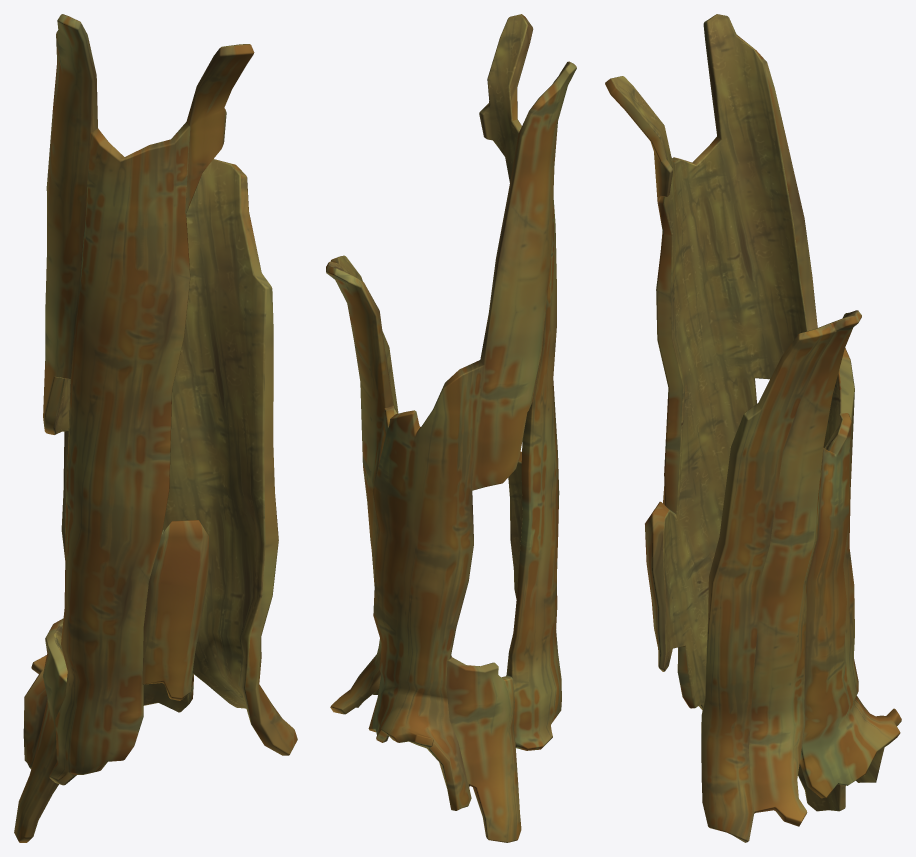
File: env_forest_gianttree_hollowtrunk_lod0.fbx
3 renders of one model, left to right at view 1: azimuth 30°, elevation 25°; view 2: azimuth 150°, elevation 25°; view 3: azimuth 270°, elevation 25°, orthographic. The views are drawn at different scales.
Visible parts, largest first — view 1: hollowtrunk_lod0; view 2: hollowtrunk_lod0; view 3: hollowtrunk_lod0.
Part boxes in pixels (x1,y1,x2,y2): hollowtrunk_lod0: (14, 14, 297, 842); hollowtrunk_lod0: (326, 14, 576, 842); hollowtrunk_lod0: (605, 14, 901, 842).
Size of the model in its own units: 36.25 by 122 by 41.56.
